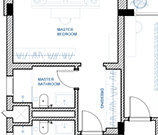door: (126, 91, 155, 124), (53, 66, 85, 92), (80, 107, 105, 135)
